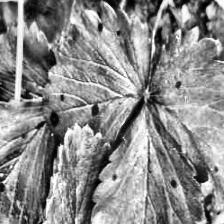Leaf Spot: (42, 0, 152, 147), (89, 97, 206, 224), (145, 25, 224, 203), (38, 121, 115, 224), (0, 97, 58, 224), (0, 20, 57, 120)
